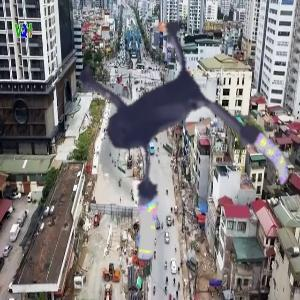drone: (27, 1, 300, 274)
